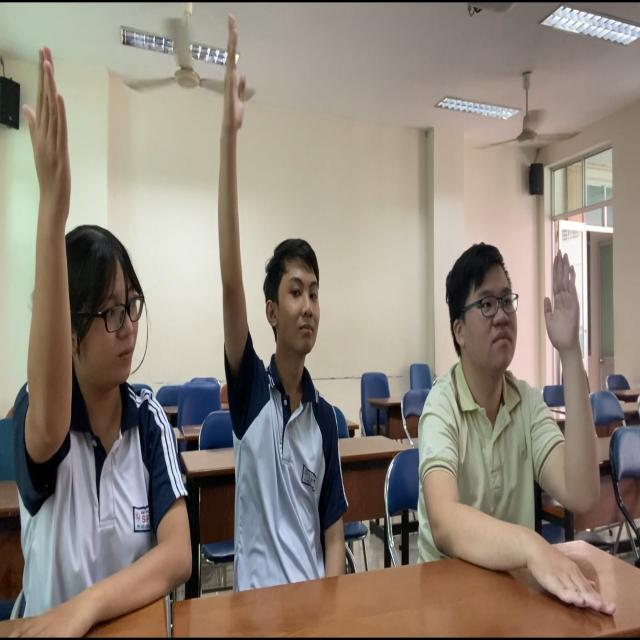raise_hand: (1, 30, 216, 640), (199, 11, 382, 640), (404, 215, 640, 640)
